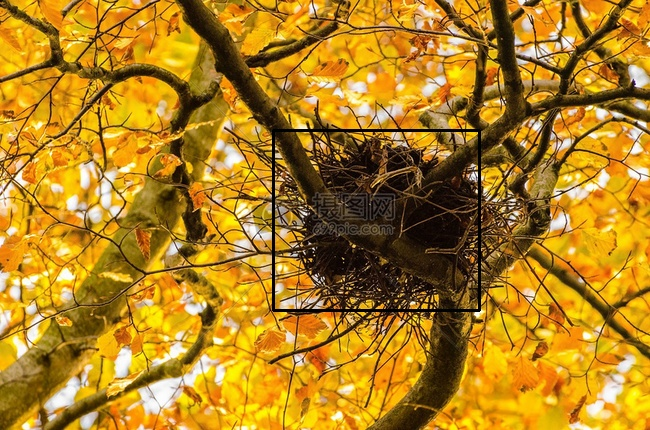bird-nest: (273, 130, 479, 310)
